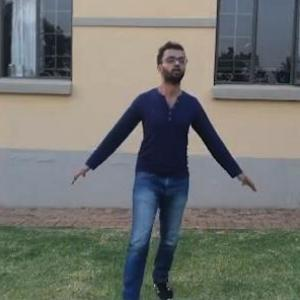land: (57, 37, 237, 274)
